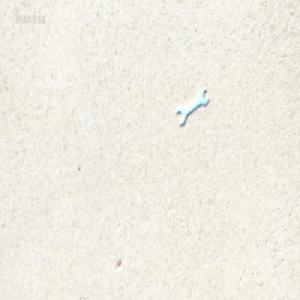Wrench: (176, 89, 207, 125)
